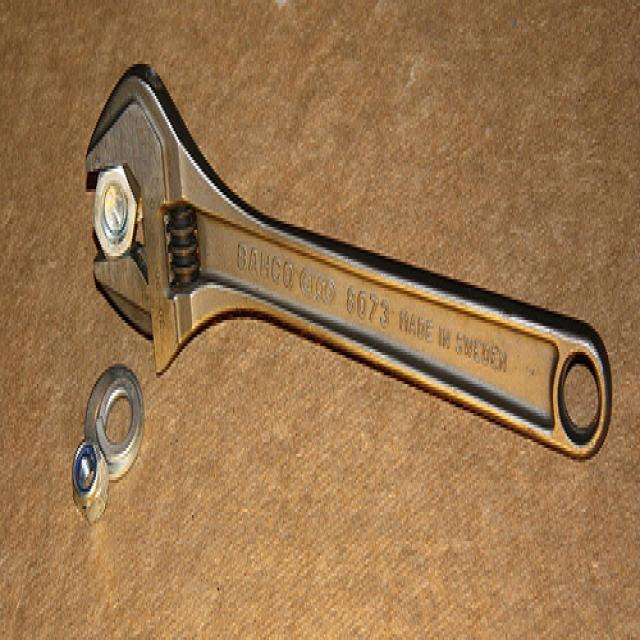wrench: (81, 58, 616, 466)
